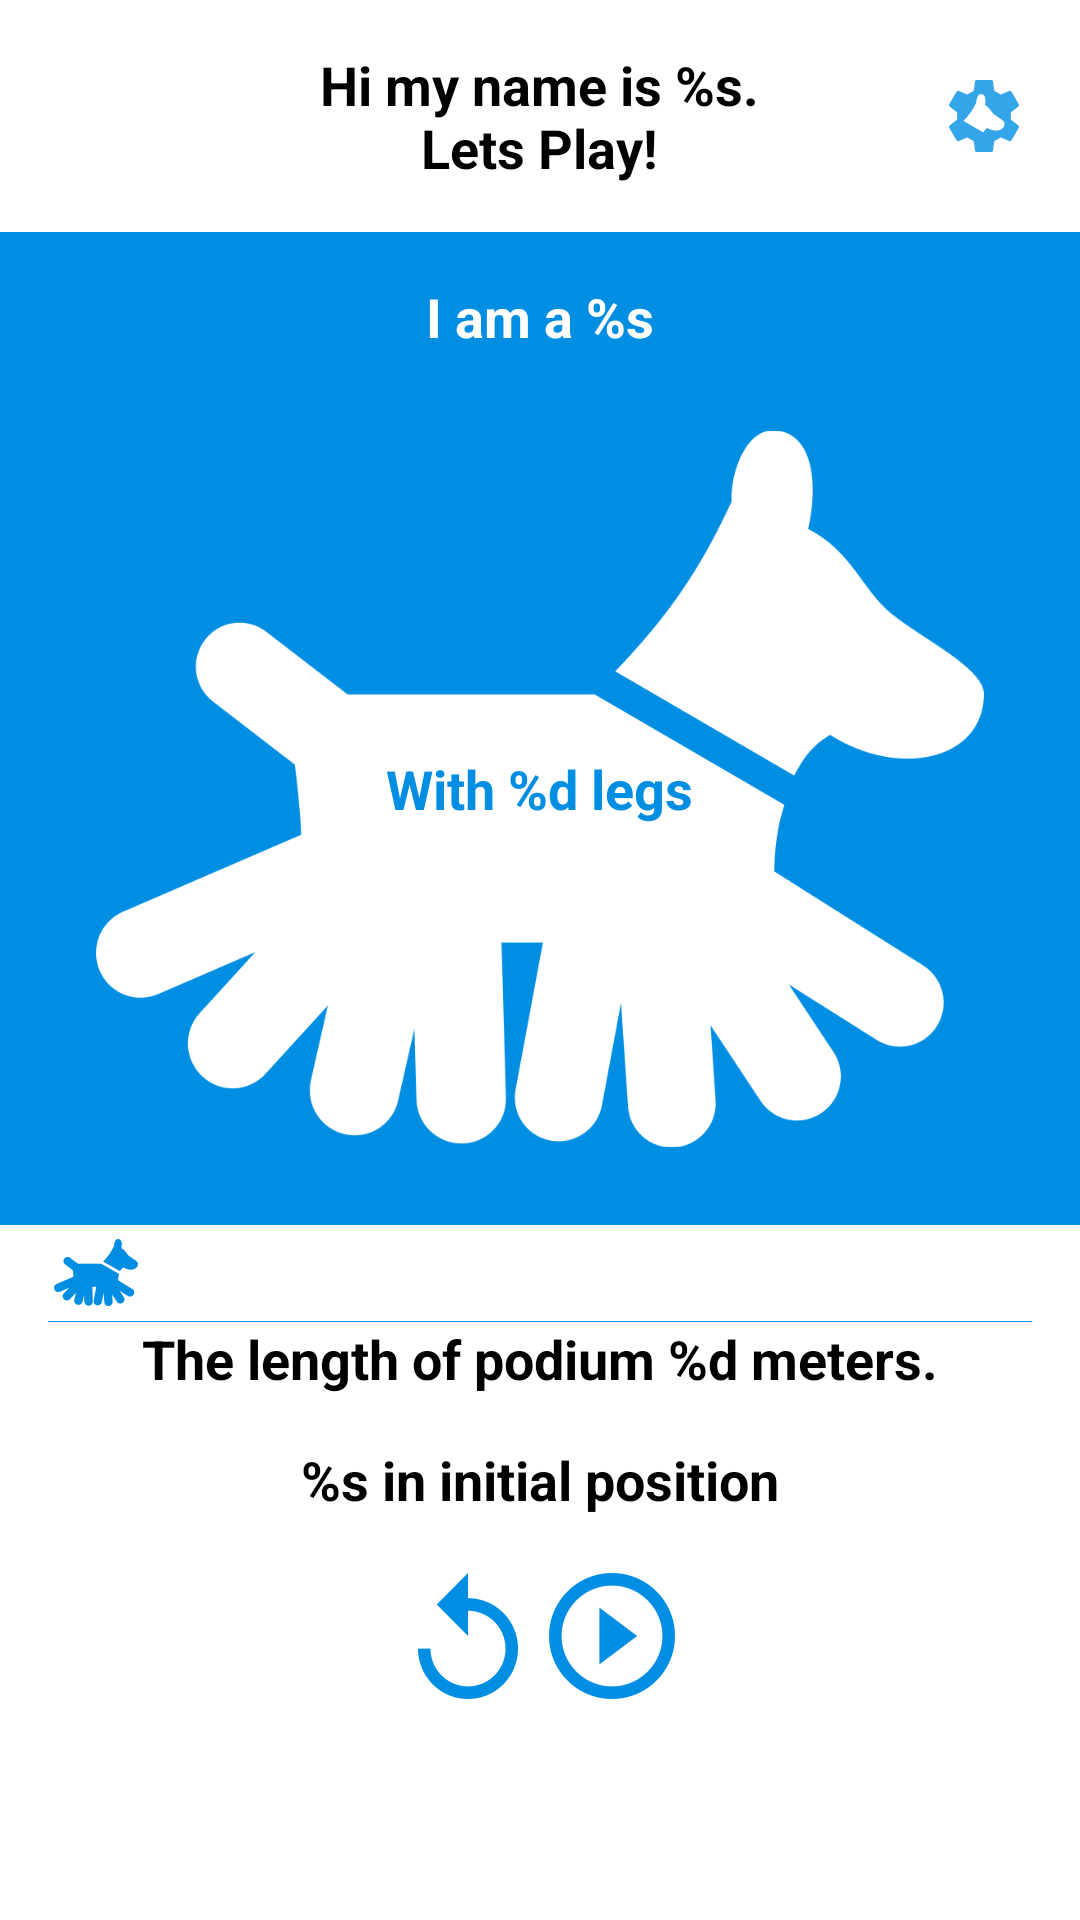

Where to tap for icons on this 1080 × 1920 app screen, as (x,y):
creature config: (984,116)
legstep: (96,1272)
play: (612,1636)
